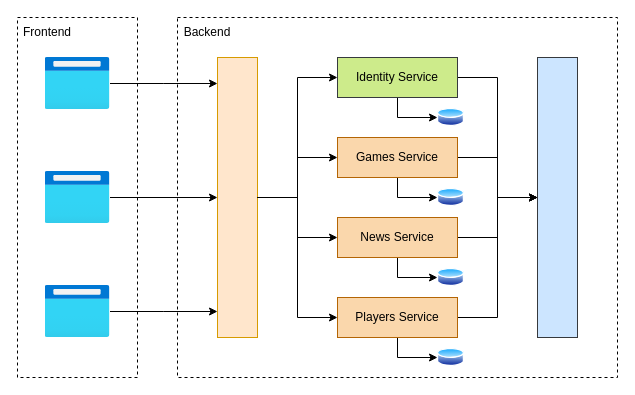
The diagram is 635 pixels wide and 395 high, and some of its shapes have lost their labels. The box of each missing label's shape, as (x1, y1, x2, y2) in pixels:
API Gateway: (216, 56, 258, 338)
Message Broker: (536, 56, 578, 338)
